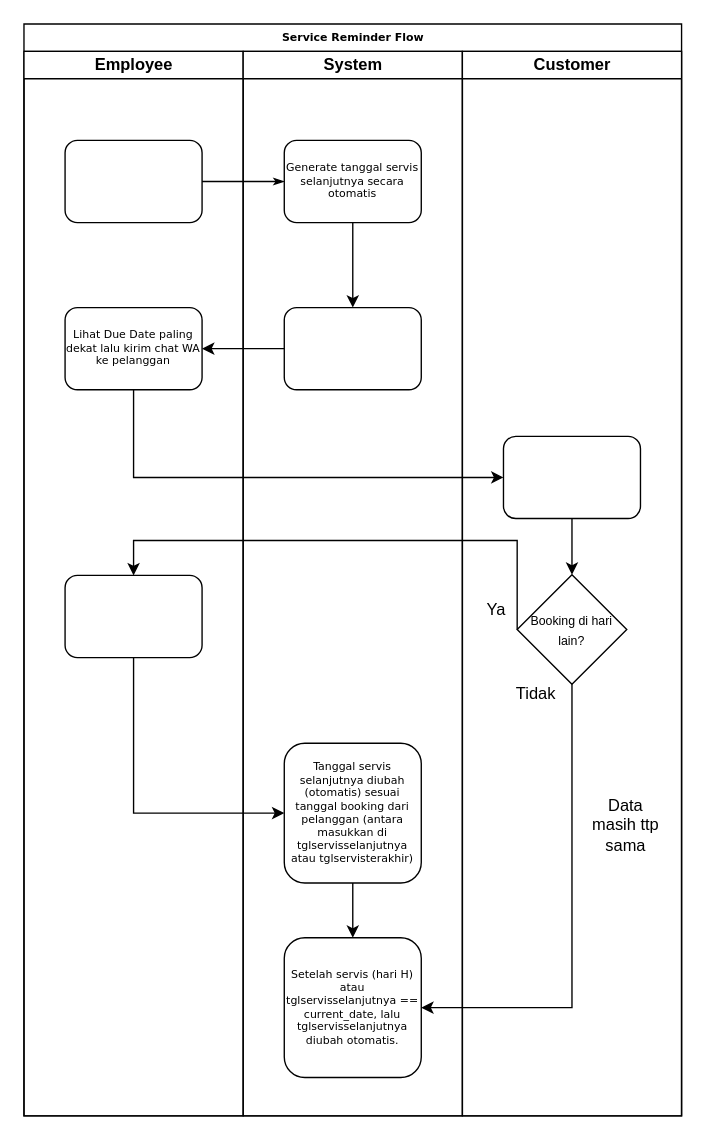
This 706x1140 diagram has some shape labels left out. The shapes that lost their labels are listed below. From the top down, each one's centre as x and y in pixels, then its label:
At [133,181]: "Input data pelanggan dan data mobil".
At [352,348]: "Sort Due Date ASC".
At [571,477]: "Tunggu respon pelanggan".
At [133,616]: "Input data booking".
